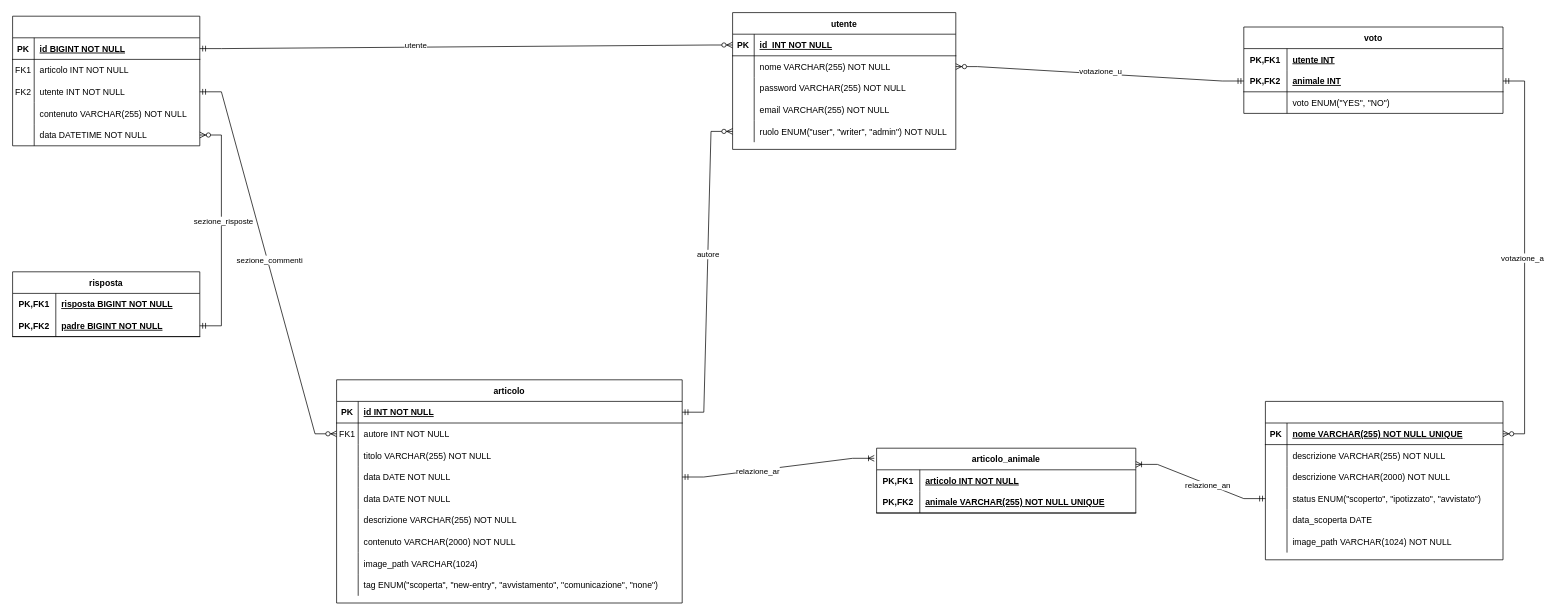
Some shapes in this 1556 by 616 pixel diagram are drawn without their labels. The box of each missing label's shape, as (x1, y1, x2, y2) in pixels:
animale: (1265, 401, 1503, 560)
commento: (12, 15, 200, 146)
